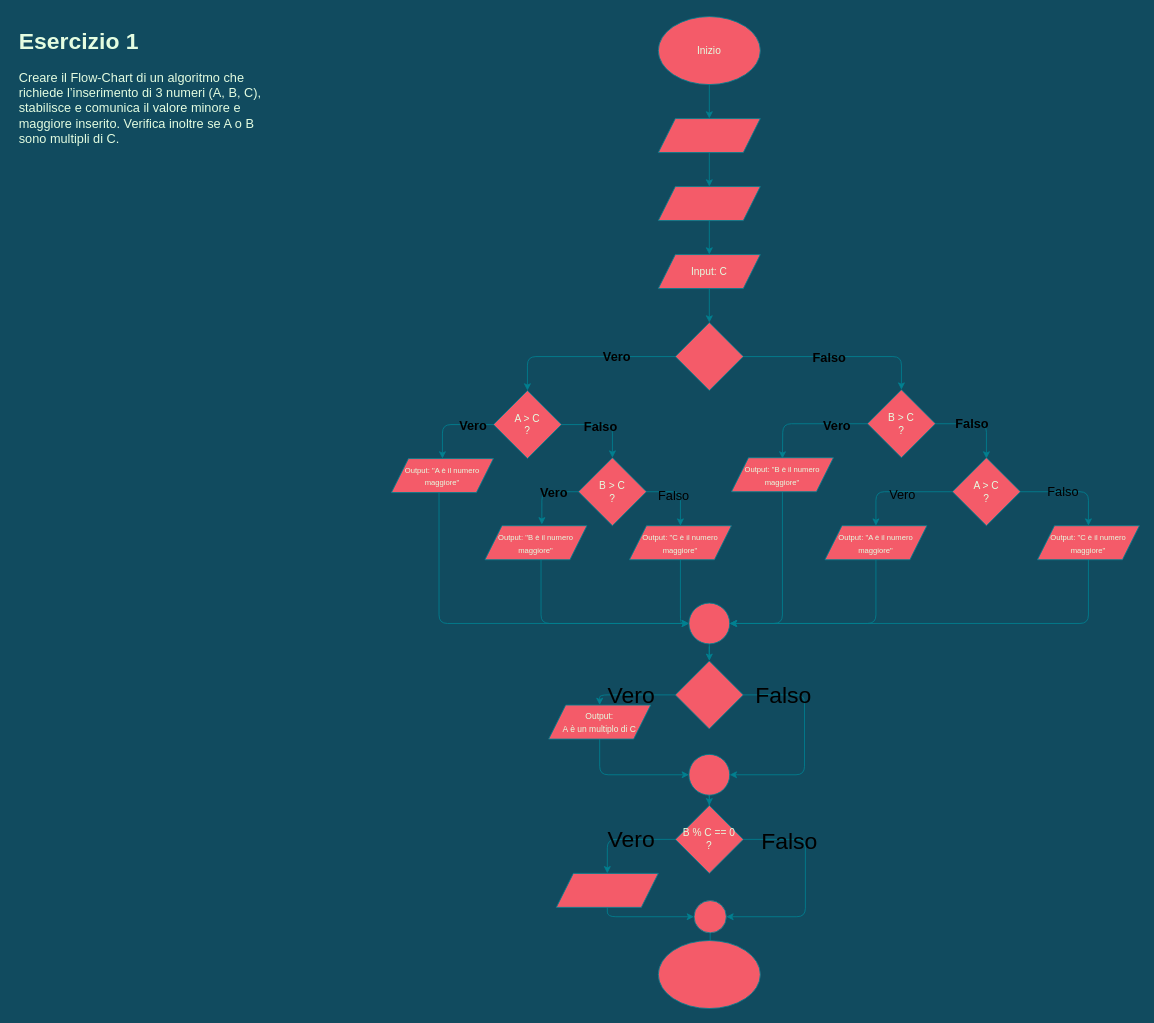
Image size: 1154x1023. Some labels were removed from this diagram. The centre of each missing label's shape, as x and y in pixels:
"A % C == 0 ?" goes at (x=708, y=694).
"A > B ?" goes at (x=708, y=356).
"Fine" goes at (x=708, y=974).
"Input: A" goes at (x=708, y=135).
"Input: B" goes at (x=708, y=203).
"Output: B è un multiplo di C" goes at (x=606, y=890).
